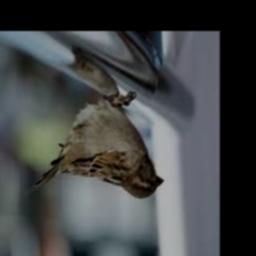Sparrow: (31, 92, 164, 198)
